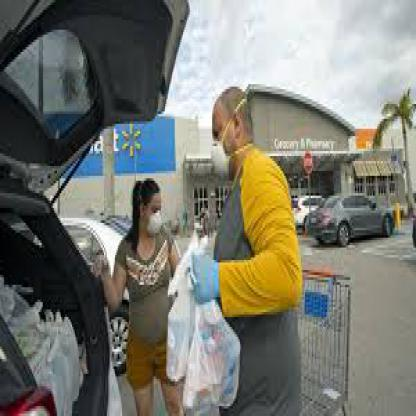Wearing_Mask: (208, 101, 251, 190), (143, 183, 169, 238)
